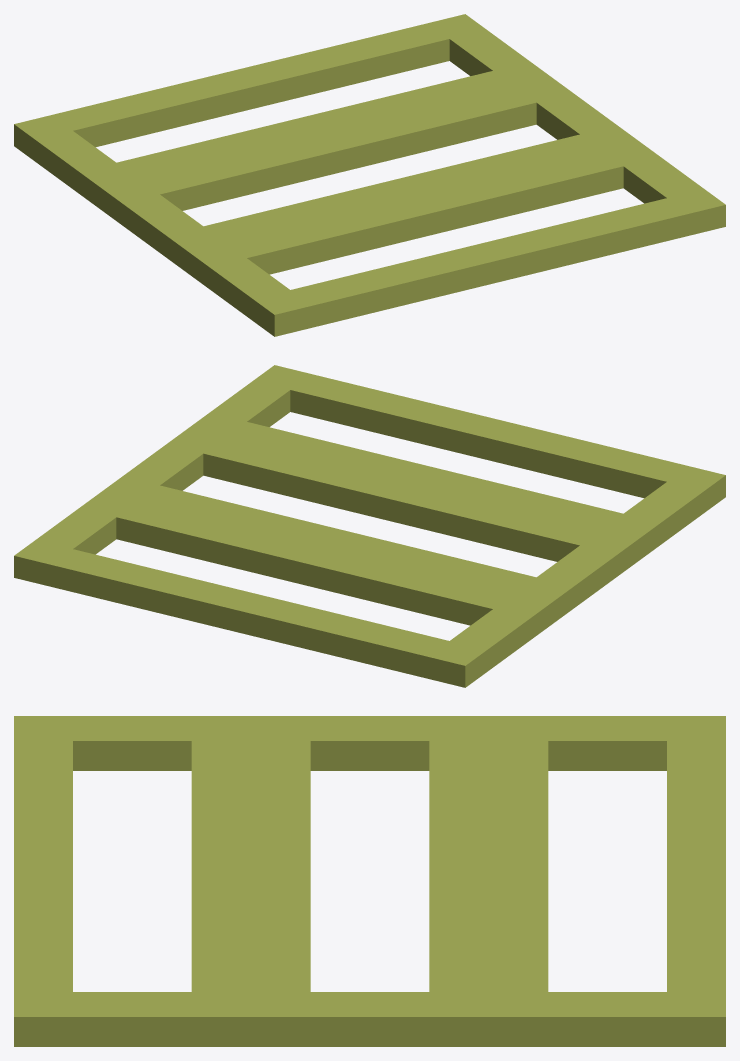
Rendered from vent.fbx.
3 renders of one model, top to bottom at view 1: azimuth 30°, elevation 25°; view 2: azimuth 150°, elevation 25°; view 3: azimuth 270°, elevation 25°, orthographic. The views are drawn at different scales.
Visible parts, largest first — view 1: vent; view 2: vent; view 3: vent.
Part boxes in pixels (box(x1,y1,x2,y2)): vent: box(14, 14, 725, 336); vent: box(14, 365, 725, 687); vent: box(14, 716, 725, 1046).
Bounding box in the file's own units: 200 × 9.32 × 200.
